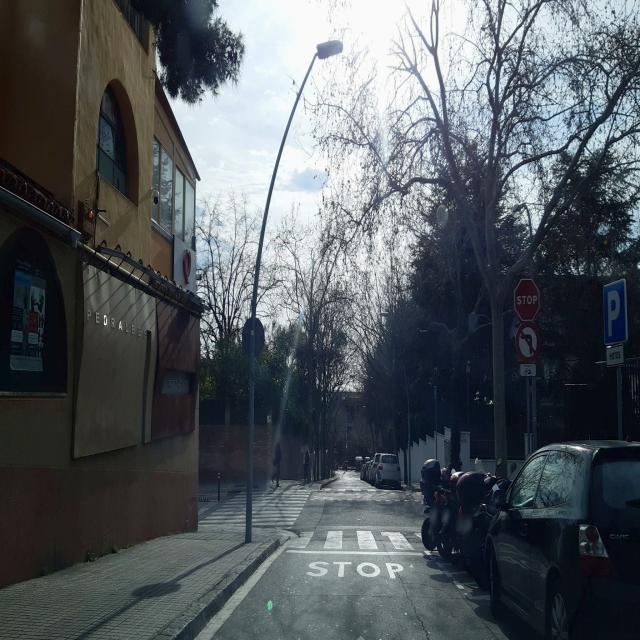car: (485, 441, 640, 631), (375, 453, 402, 490), (360, 460, 370, 480)
